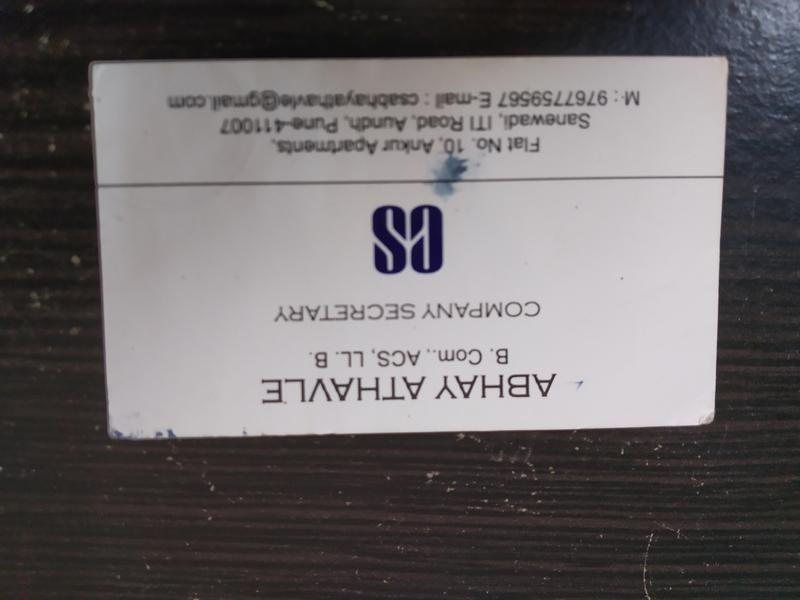card: (86, 56, 727, 449)
